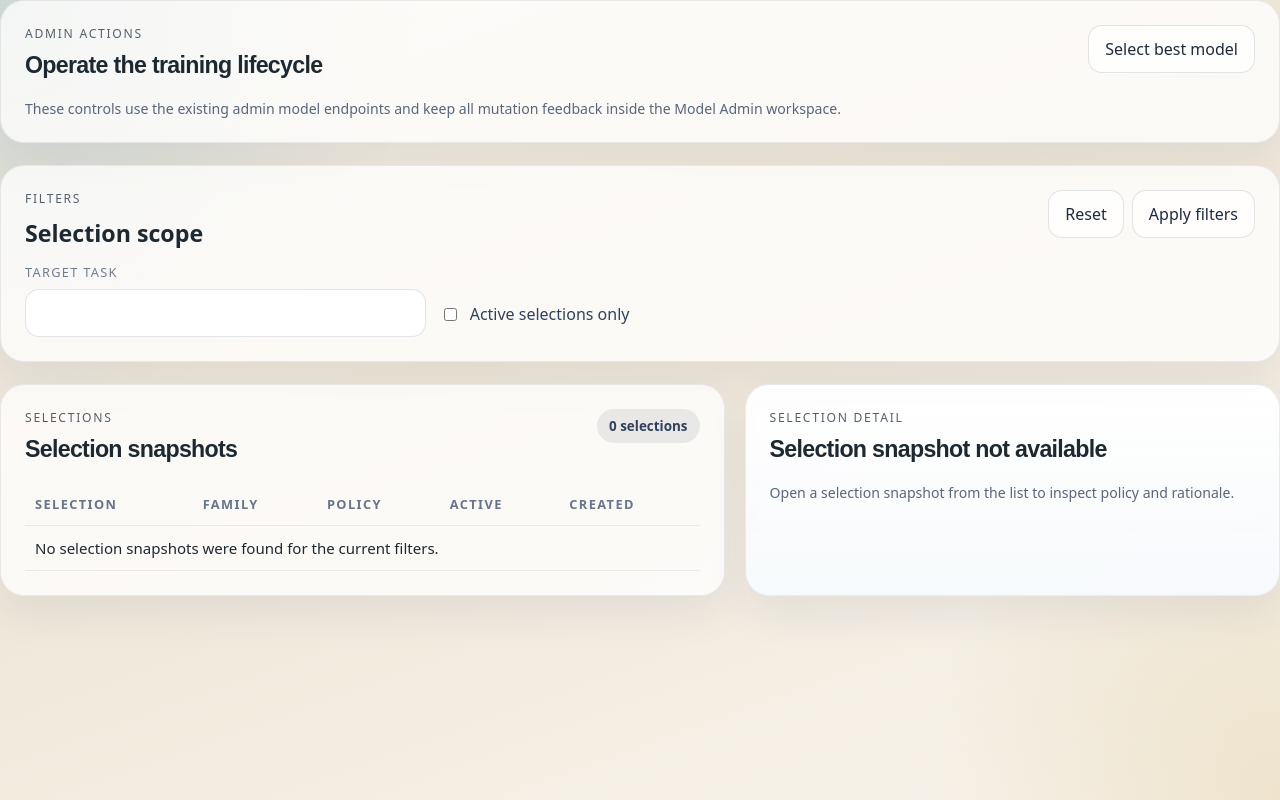
it: ModelAdminWorkspace › shows a success mutation banner after selection and exposes the follow-up action
expect the heading "Selection snapshots" is shown: met, box [25,436,237,463]
Click the button "Select best model".
click(1172, 49)  # box [1088,25,1255,73]
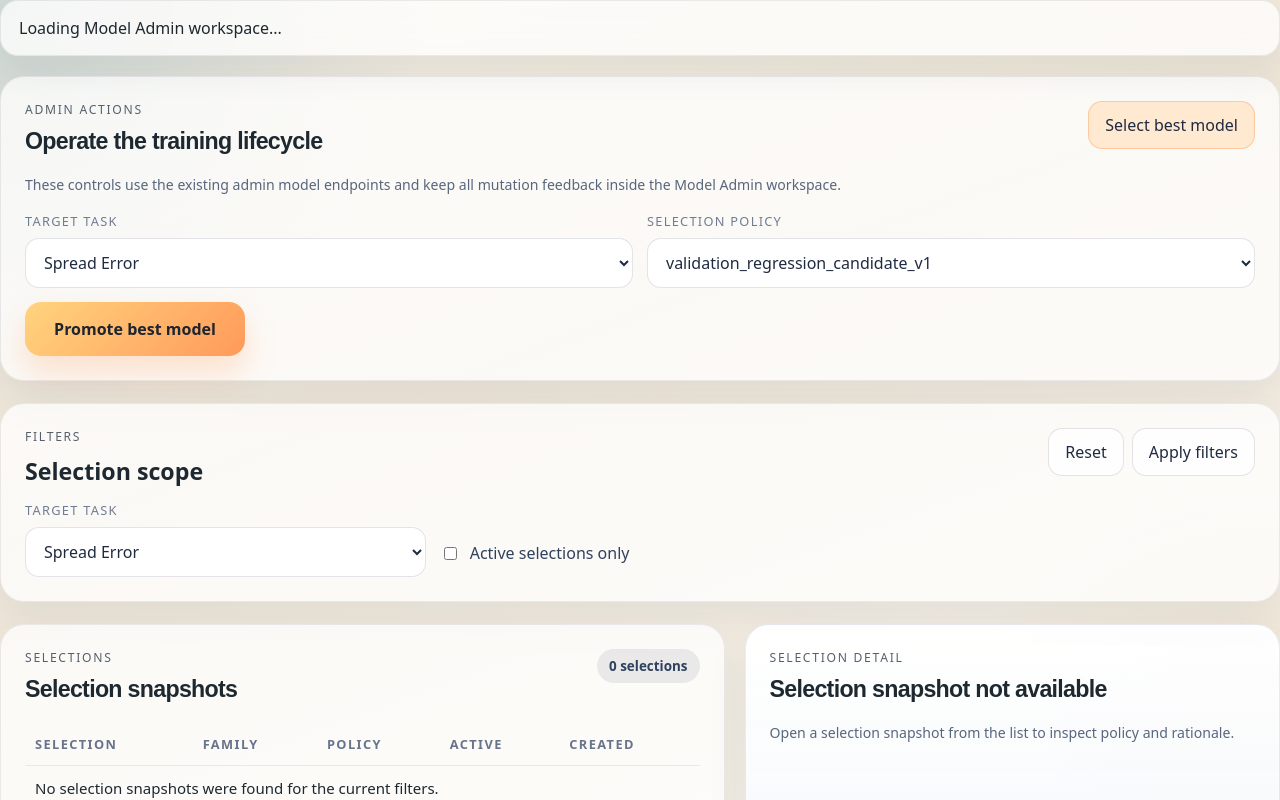
Click the button "Promote best model".
click(135, 329)  # box [25,302,245,356]
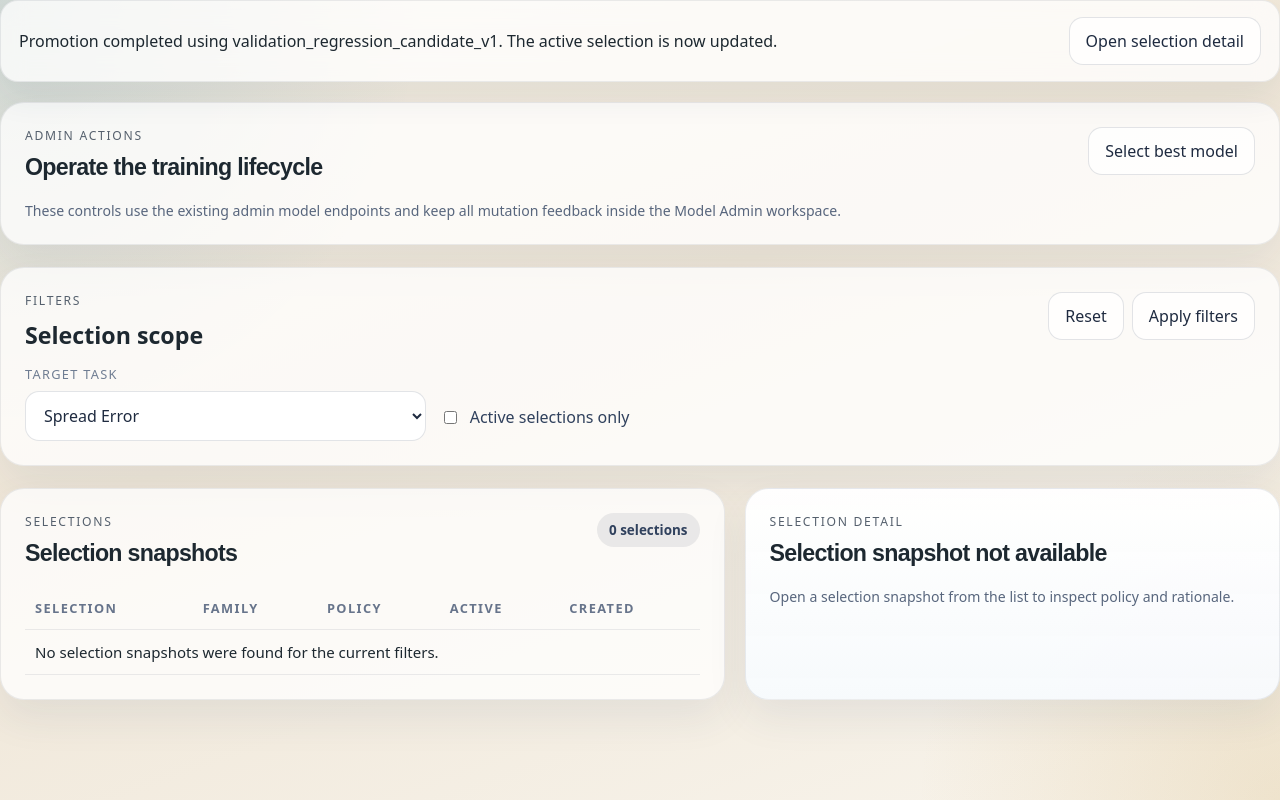
expect the text "Promotion completed using validation_regression_candidate_v1. The active selection is now updated." is shown: met, box [19,30,777,52]
expect the button "Open selection detail" is shown: met, box [1069,17,1261,65]
